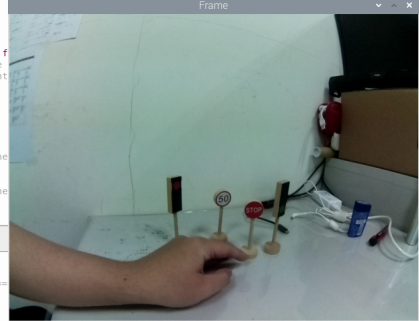Green: (270, 179, 290, 220)
Red: (163, 174, 185, 216)
Speed50: (211, 188, 232, 208)
Stop: (242, 199, 265, 220)
